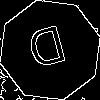D: (25, 25, 71, 78)
